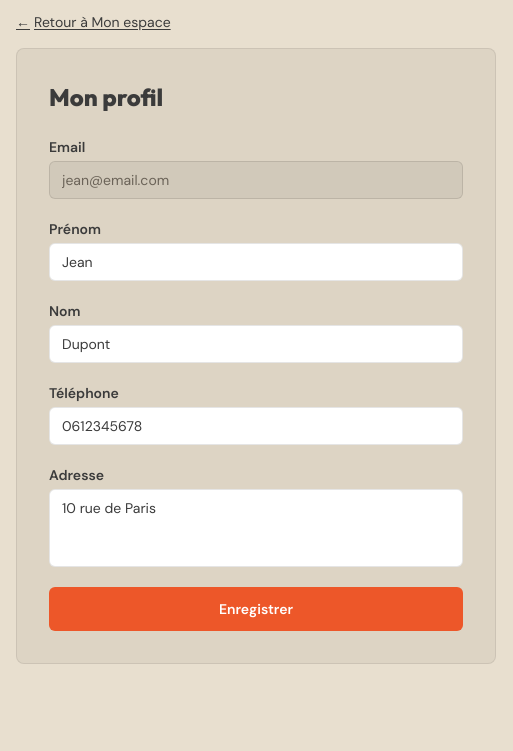
Test: Profile › affiche un message d'erreur générique sur erreur inconnue
Click the button "Enregistrer" at (256, 609), box [49,587,463,631]
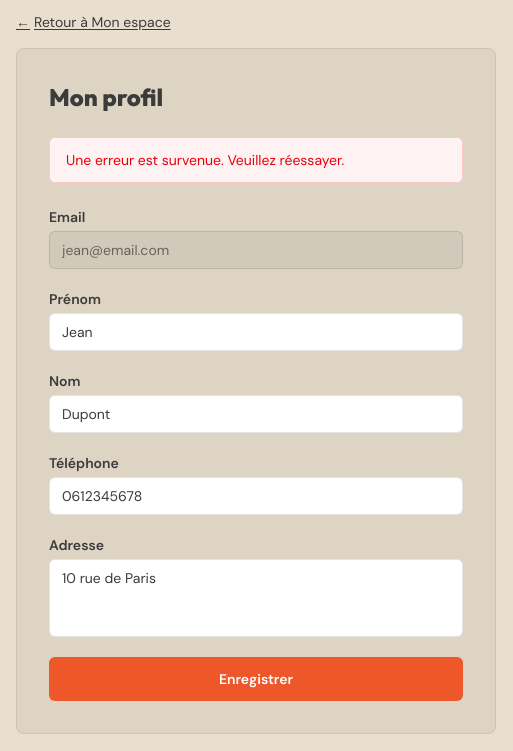
Result: the message shows "Une erreur est survenue" at [66,151,344,169]
